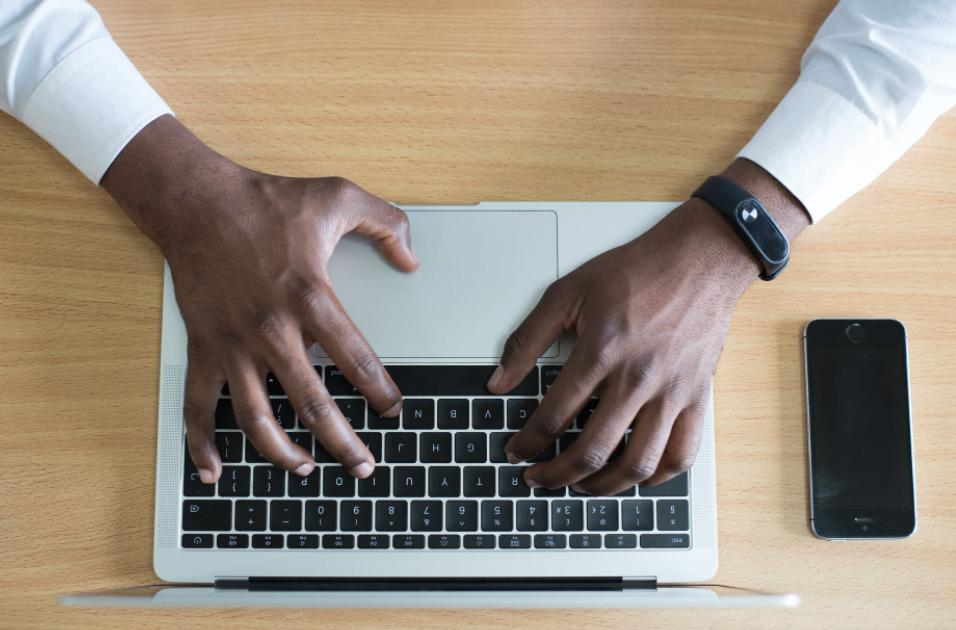mobile: (804, 318, 917, 542)
